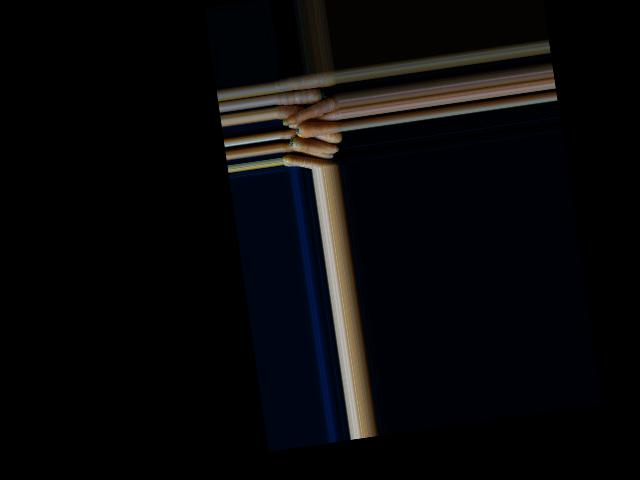carrot: (271, 71, 334, 94)
